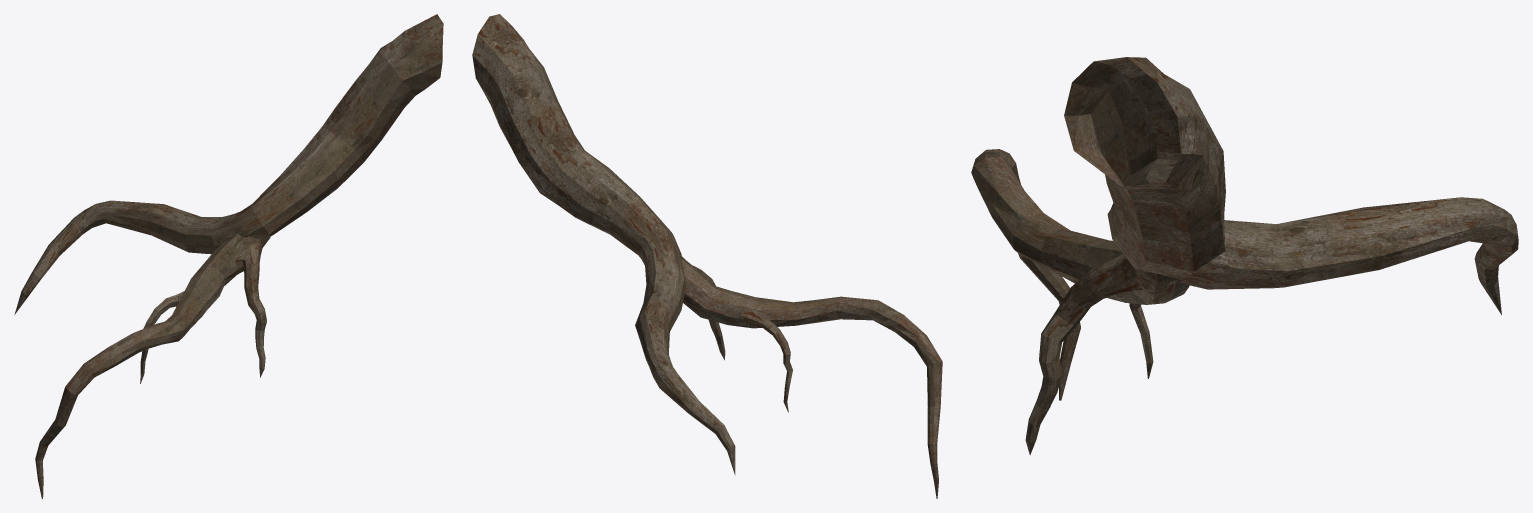
The model's file is House64.fbx.
3 views of the same model, side by side, from view 1: azimuth 30°, elevation 25°; view 2: azimuth 150°, elevation 25°; view 3: azimuth 270°, elevation 25° (orthographic). The views are drawn at different scales.
Parts seen in each view (by area): view 1: AT_BGAgo_TrI08.mo; view 2: AT_BGAgo_TrI08.mo; view 3: AT_BGAgo_TrI08.mo.
Part boxes in pixels (<box>): AT_BGAgo_TrI08.mo: <box>14,14,443,498</box>; AT_BGAgo_TrI08.mo: <box>472,14,942,498</box>; AT_BGAgo_TrI08.mo: <box>971,57,1518,455</box>.
Size of the model in its own units: 2738 by 2330 by 1553.
